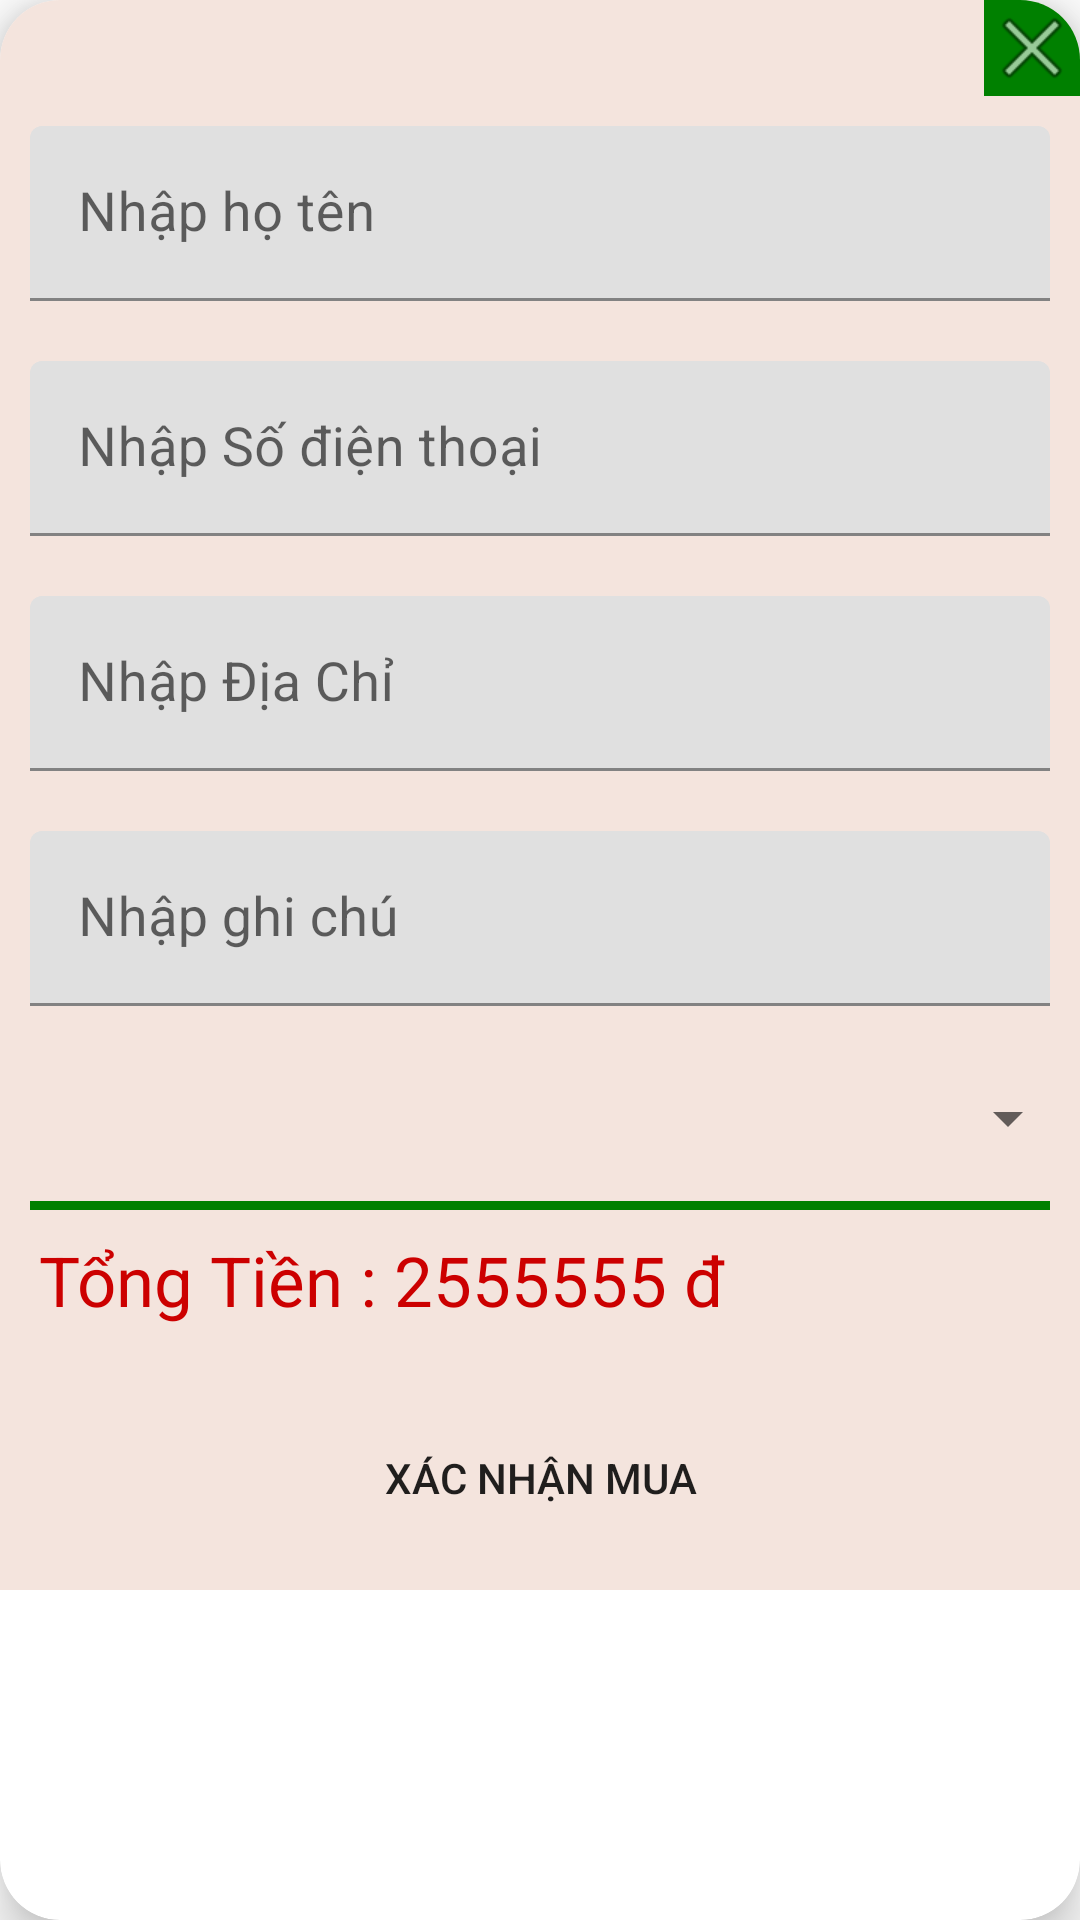

Screen size 1080×1920. Icon name, then its box in pixels as bbox(x1, y1, x2, y2):
close clear cancel: bbox(984, 0, 1080, 96)
